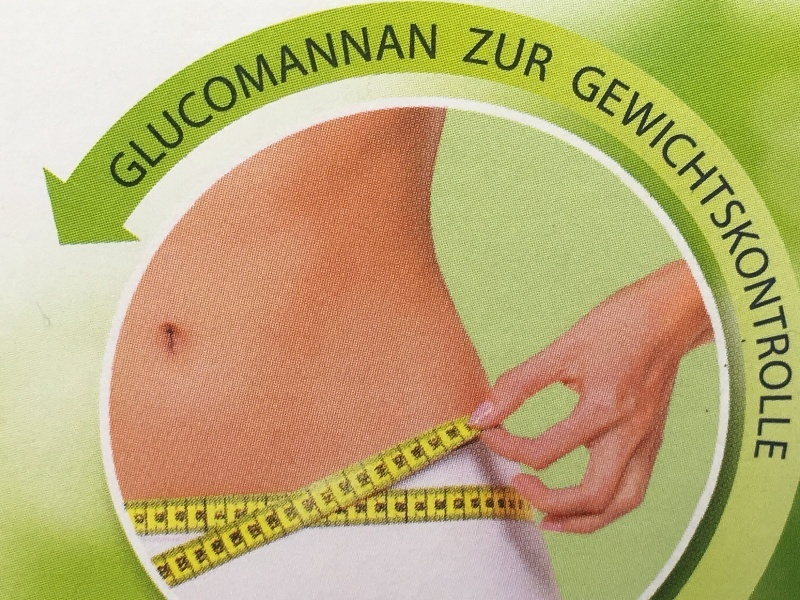text: (577, 38, 592, 470), (593, 38, 608, 470), (609, 38, 624, 470), (625, 38, 640, 470), (641, 38, 656, 470), (657, 38, 672, 470), (673, 38, 688, 470), (689, 38, 704, 470), (705, 38, 720, 470), (721, 38, 736, 470), (737, 38, 752, 470), (753, 38, 768, 470), (769, 38, 784, 470), (785, 38, 795, 470), (145, 19, 160, 201), (161, 19, 176, 201), (177, 19, 192, 201), (193, 19, 208, 201), (209, 19, 224, 201), (225, 19, 240, 201), (241, 19, 256, 201), (257, 19, 272, 201), (273, 19, 288, 201), (289, 19, 304, 201), (305, 19, 320, 201), (321, 19, 336, 201), (337, 19, 352, 201), (353, 19, 368, 201), (369, 19, 384, 201), (385, 19, 400, 201), (401, 19, 416, 201), (417, 19, 432, 201), (131, 19, 144, 201), (572, 38, 576, 470), (433, 19, 439, 201), (481, 27, 496, 82), (497, 27, 512, 82), (513, 27, 528, 82), (529, 27, 544, 82), (545, 27, 560, 82), (470, 27, 480, 82), (209, 539, 224, 557), (338, 479, 352, 498), (193, 548, 208, 565), (177, 555, 190, 574), (321, 489, 334, 507), (356, 470, 368, 489), (161, 563, 173, 581), (229, 530, 240, 549), (449, 425, 461, 442), (433, 434, 444, 452), (374, 462, 384, 481), (309, 498, 320, 515), (289, 506, 299, 524), (391, 452, 400, 471), (246, 524, 256, 541), (499, 498, 512, 510), (354, 503, 368, 514), (264, 514, 272, 532), (417, 443, 425, 461), (435, 500, 448, 511), (401, 452, 408, 471), (273, 514, 280, 532), (133, 515, 144, 526), (486, 498, 496, 510), (454, 499, 464, 510), (196, 512, 208, 521), (282, 506, 288, 524), (410, 443, 416, 461), (374, 504, 384, 514), (471, 499, 480, 510), (385, 462, 390, 481), (214, 512, 224, 521), (427, 434, 432, 452), (177, 512, 185, 523), (417, 502, 425, 513), (156, 563, 160, 581), (257, 524, 261, 541), (154, 514, 160, 524), (235, 509, 240, 521), (241, 530, 244, 549), (369, 470, 372, 489), (395, 502, 400, 513), (401, 502, 406, 513), (445, 425, 448, 442), (241, 509, 245, 521), (513, 498, 517, 510), (161, 514, 165, 524), (174, 555, 176, 574), (509, 498, 512, 510), (175, 512, 176, 523), (415, 502, 416, 513), (385, 504, 386, 514)
